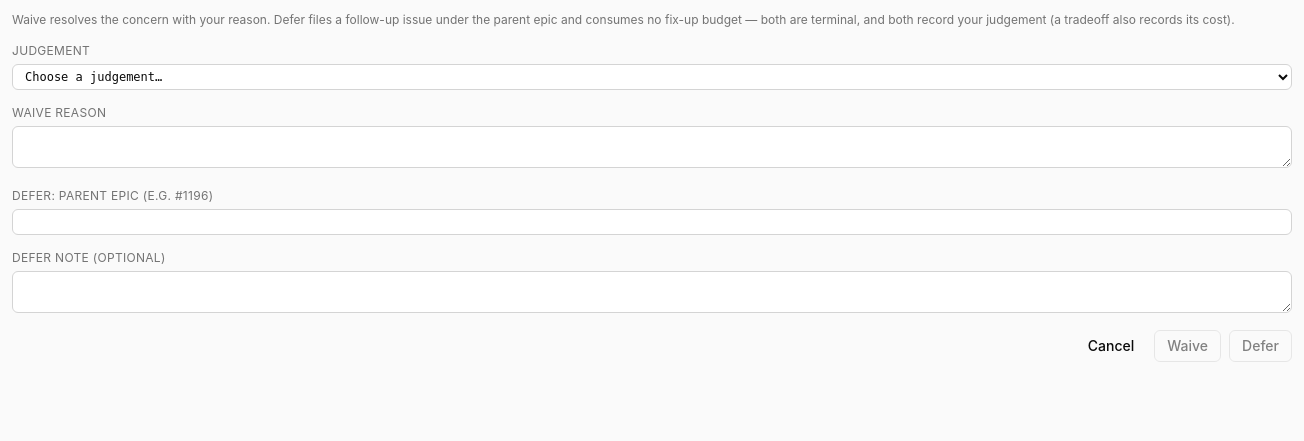
Scenario: DecisionPanel — judgement gate (E94.7 / #4840) › the tradeoff cost field appears only for a tradeoff judgement
The width and height of the screenshot is (1304, 441).
Expected: the field labelled "Tradeoff cost" is not shown
Step 1. Select "tradeoff — a real cost, knowingly accepted" in the dropdown labelled "Judgement" → {"x": 652, "y": 77}, box x1=12 y1=64 x2=1292 y2=90
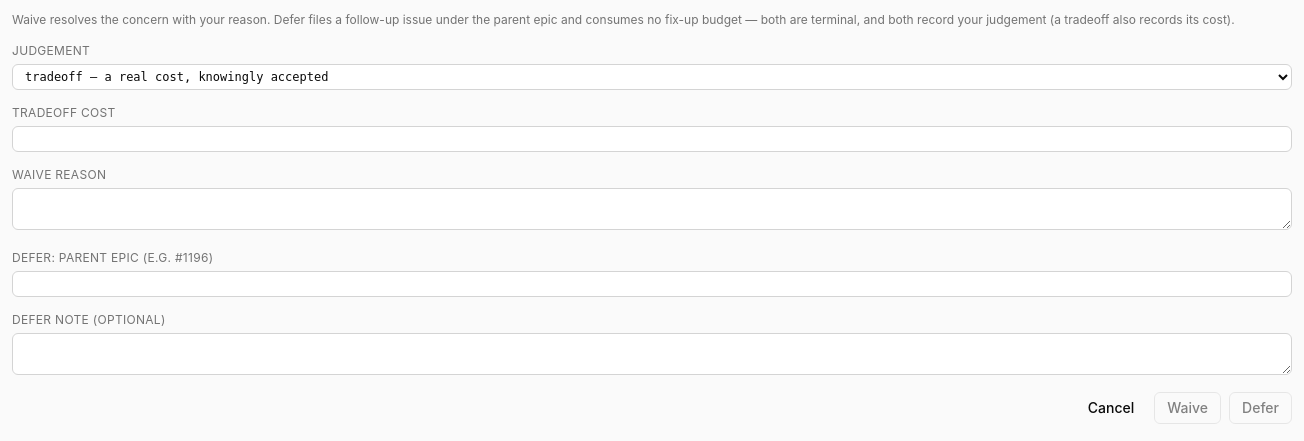
Result: the field labelled "Tradeoff cost" is shown at x1=12 y1=126 x2=1292 y2=152
Step 2. Select "defect — a real defect in this change" in the dropdown labelled "Judgement" → {"x": 652, "y": 77}, box x1=12 y1=64 x2=1292 y2=90
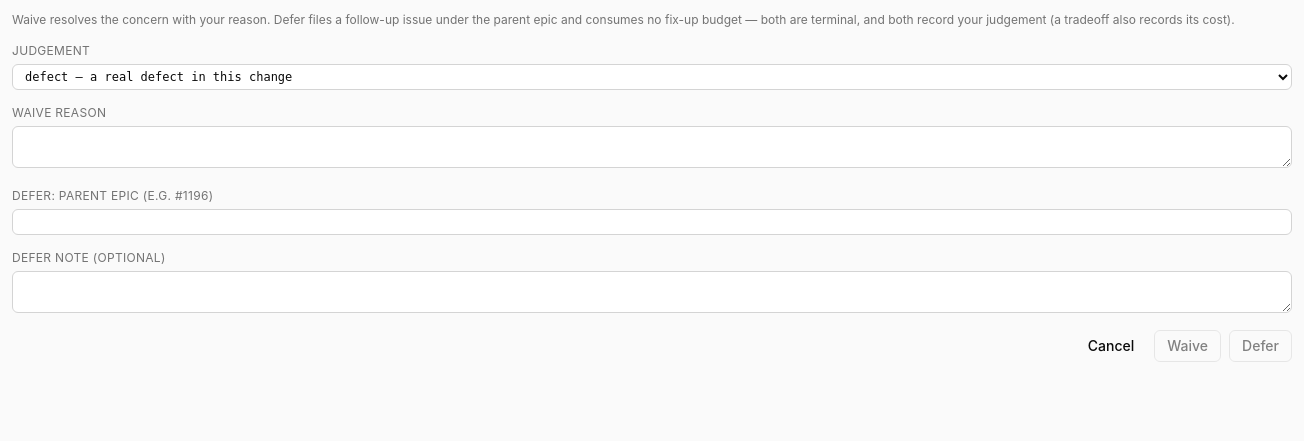
Result: the text labelled "Tradeoff cost" is gone
